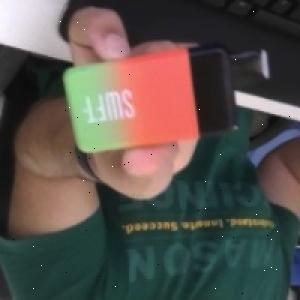Swift-E-Ciggirate: (60, 38, 271, 158)
